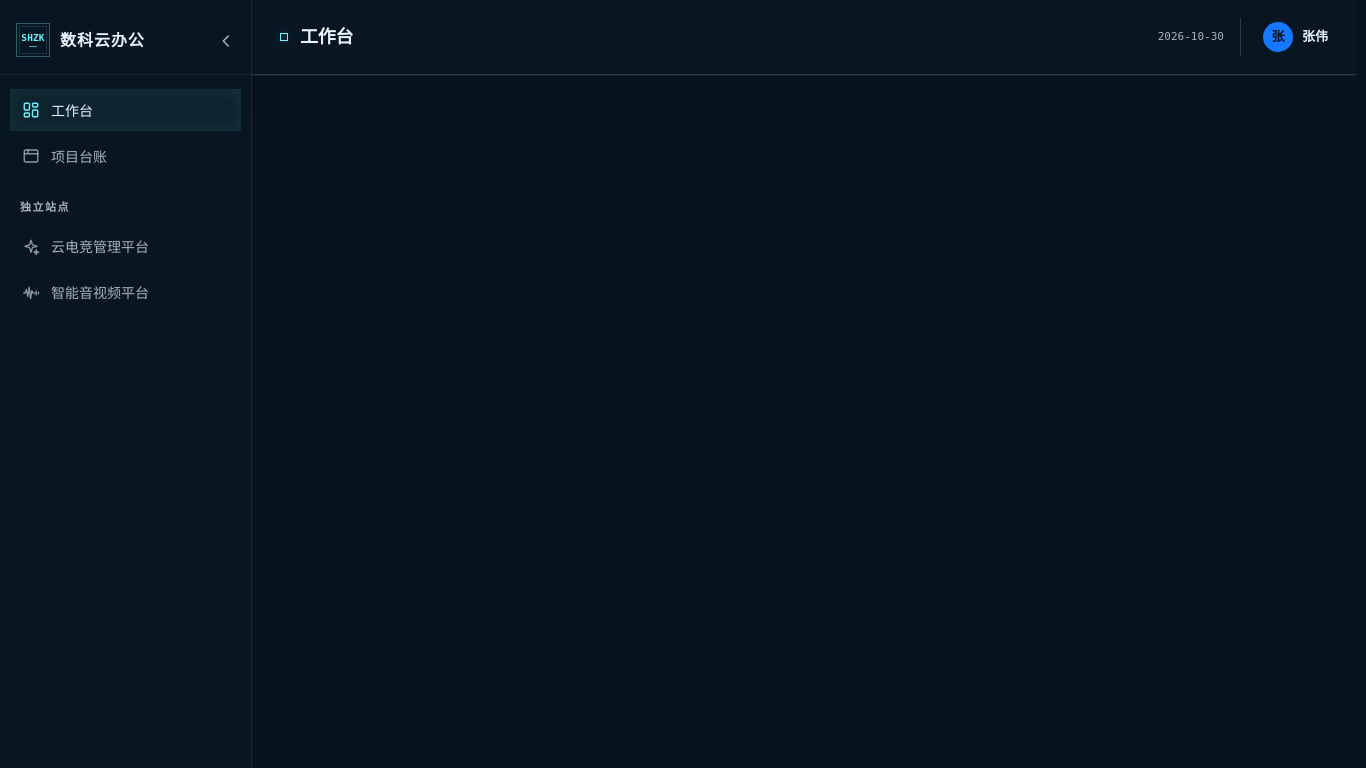
用户菜单主题选择 › 保留账号动作并增加三档主题选项
Click the button with aria-label "账号菜单：张伟" at (1296, 37), box [1257,18,1334,56]
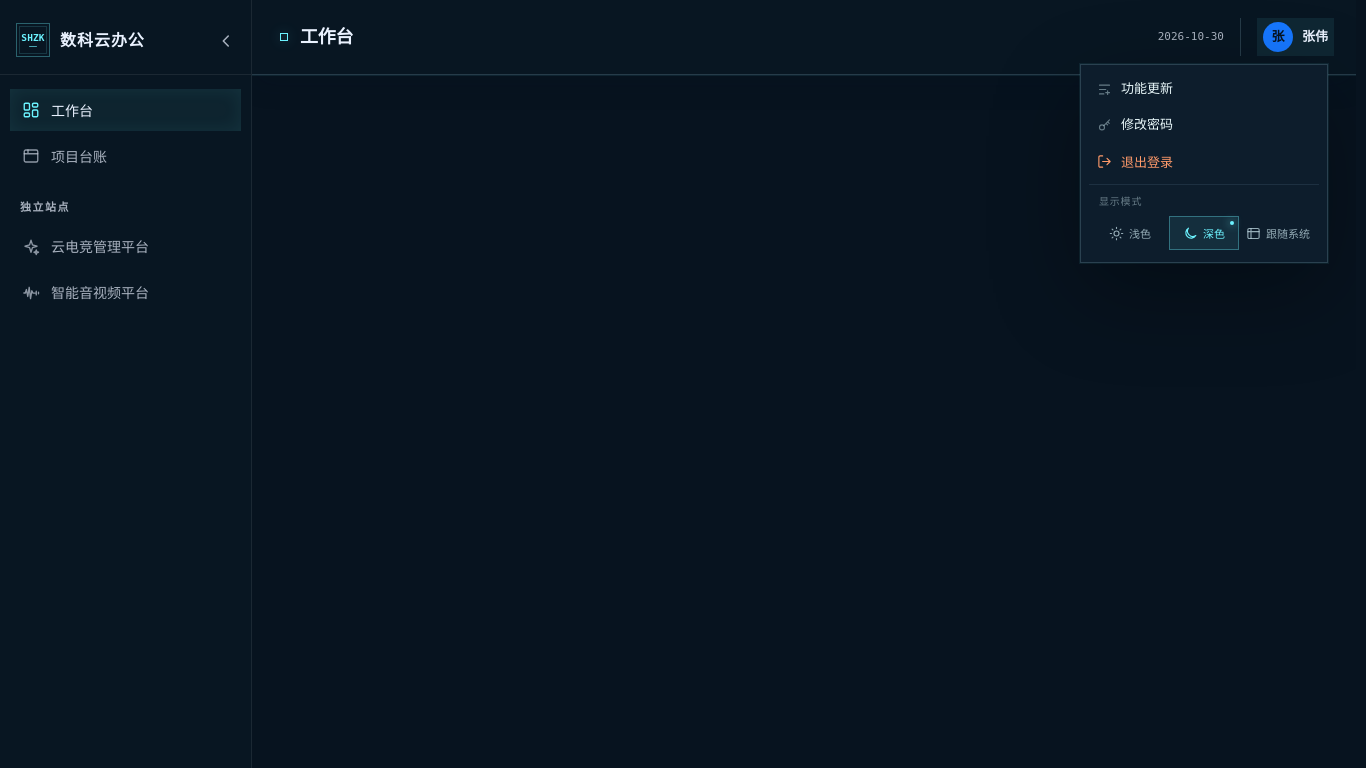
Expected: the menu item "功能更新" is shown, [1097,79,1173,97]
Expected: the menu item "修改密码" is shown, [1097,115,1173,133]
Expected: the menu item "退出登录" is shown, [1087,143,1321,179]
